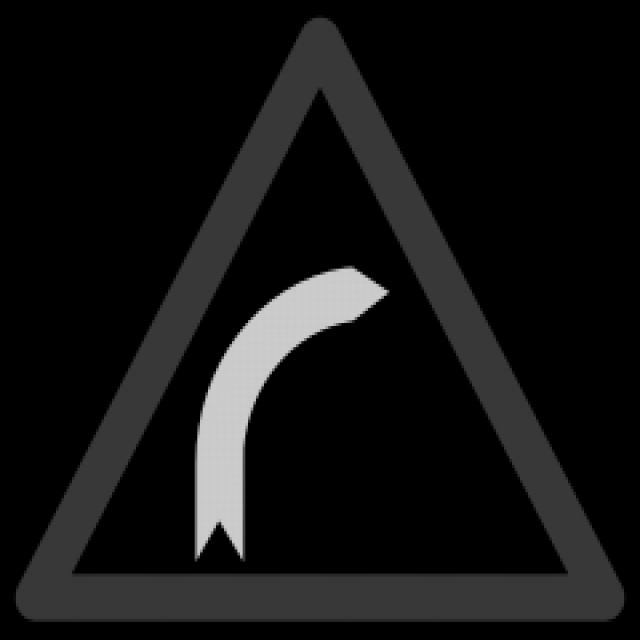turn_danger: (0, 21, 640, 640)
